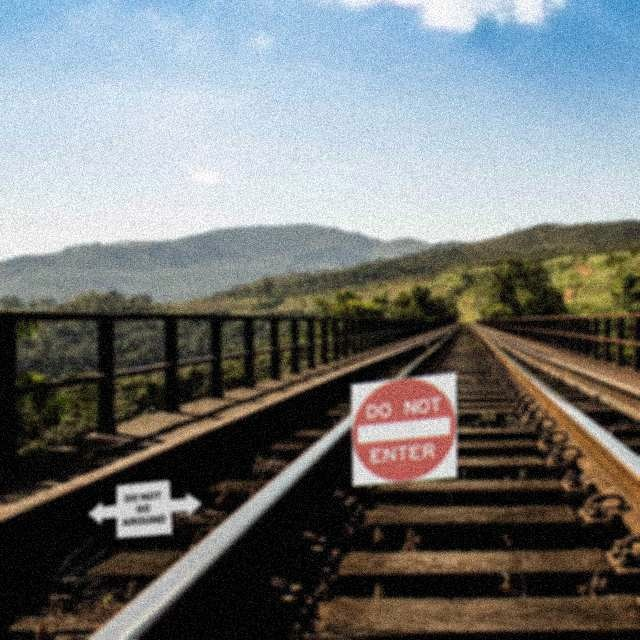DO_NOT_ENTER: (350, 371, 458, 487)
DO_NOT_GO_AROUND: (87, 479, 203, 539)
